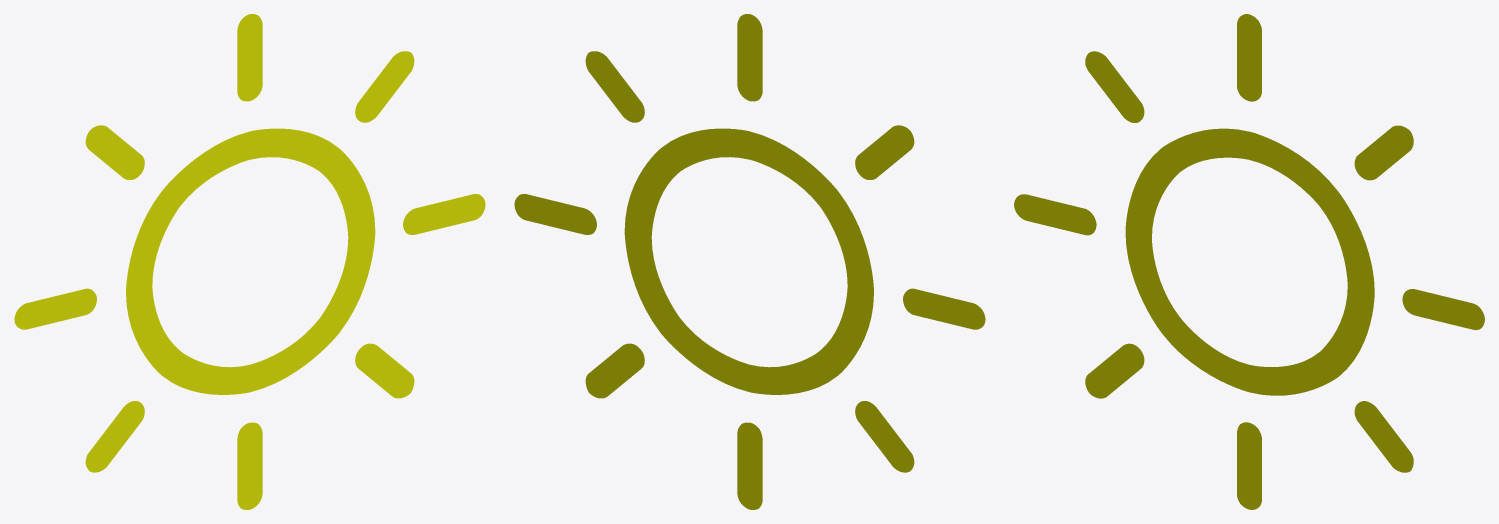
The model's file is clear.glb.
The picture shows the model from 3 angles, left to right: view 1: azimuth 30°, elevation 25°; view 2: azimuth 150°, elevation 25°; view 3: azimuth 330°, elevation 25°; orthographic projection.
Visible parts, largest first — view 1: Sun full; view 2: Sun full; view 3: Sun full.
Boxes of the visible parts, x1,y1,x2,y2 form: Sun full: (14, 14, 485, 509); Sun full: (514, 14, 985, 509); Sun full: (1014, 14, 1484, 509).
Bounding box in the file's own units: 0.6597 × 0.6632 × 1.47e-16.
